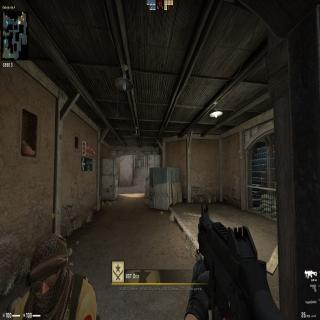T-Head: (31, 232, 67, 314)
